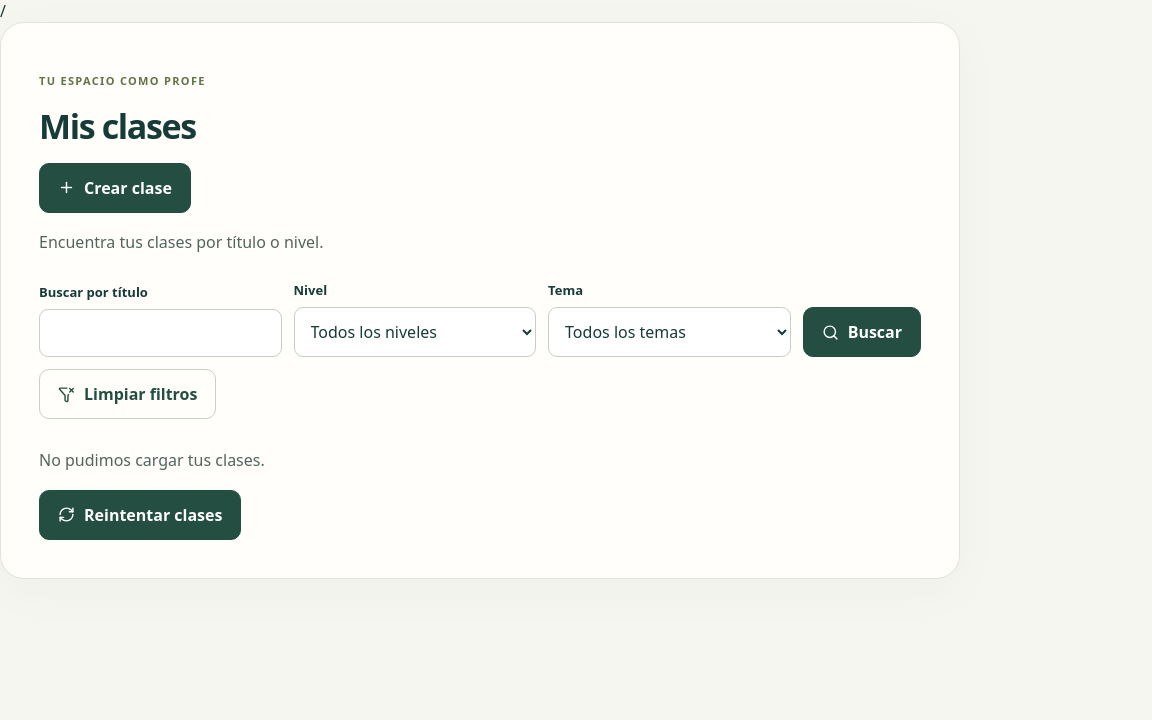
retries errors only when requested
Expected: the message shows "No pudimos cargar tus clases.", x1=39 y1=449 x2=265 y2=471
Click the button "Reintentar clases".
click(140, 515)  # box x1=39 y1=490 x2=242 y2=540
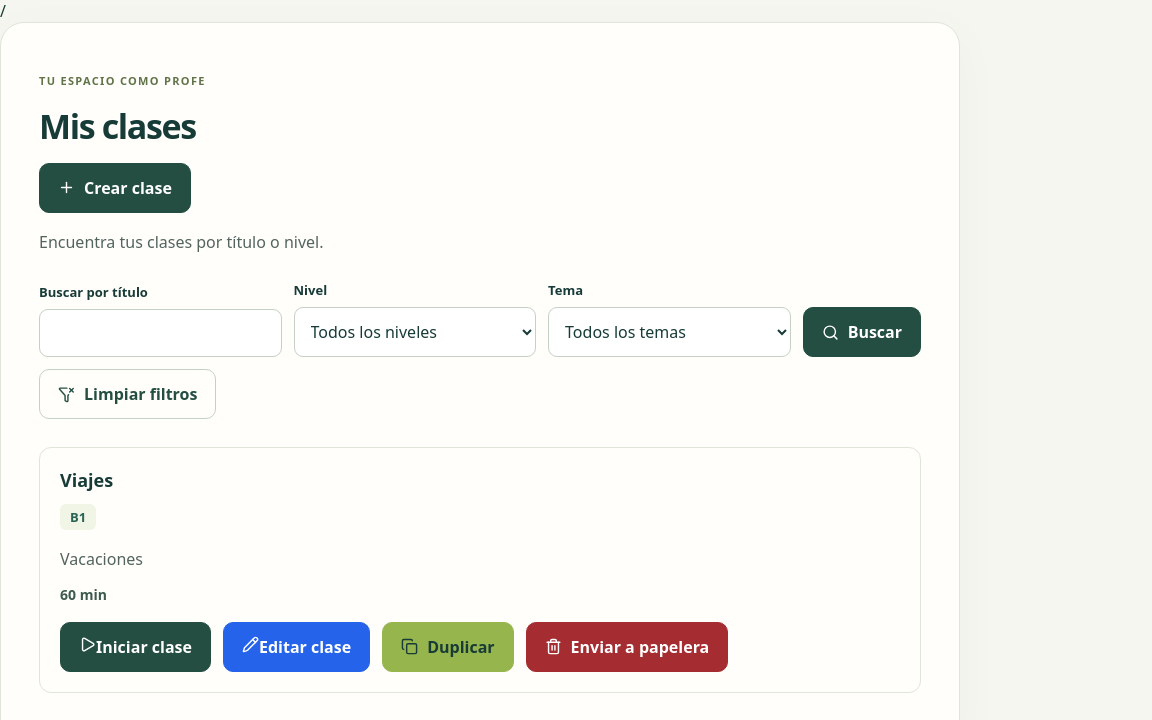
Expected: the heading "Viajes" is shown, x1=60 y1=468 x2=113 y2=492
